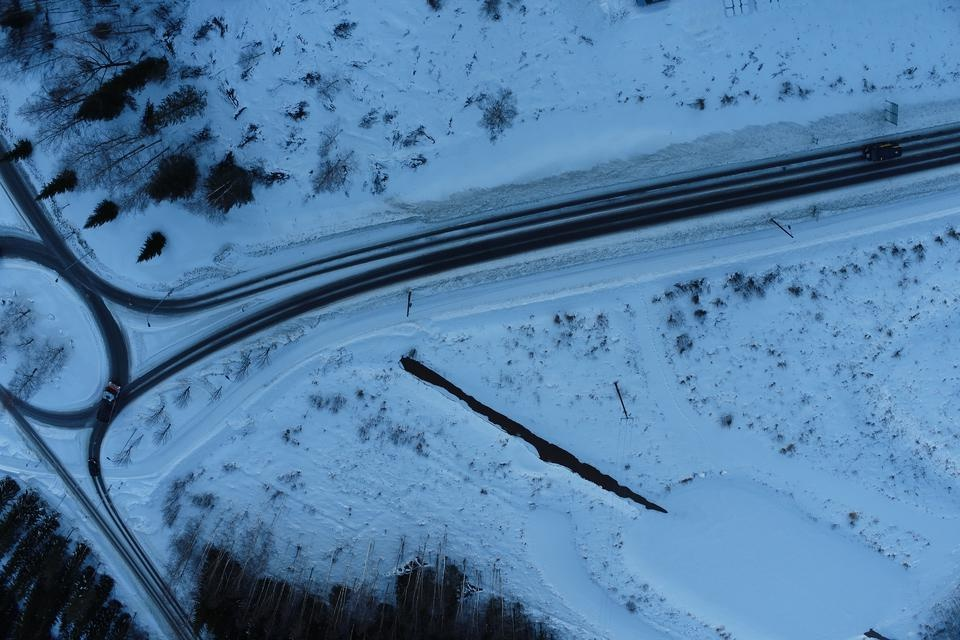roundabout: (0, 185, 154, 452)
